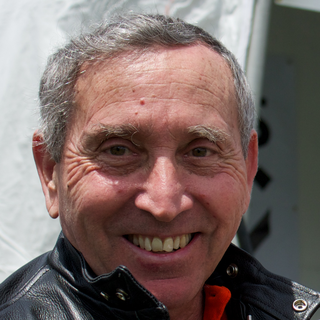eye: (91, 138, 150, 166), (179, 140, 225, 164)
